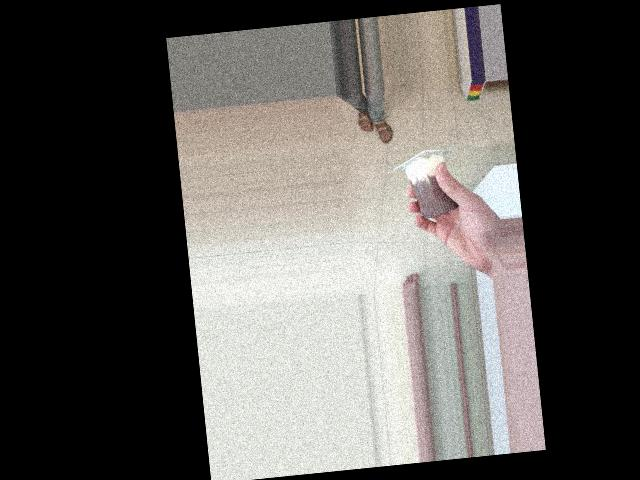milky: (399, 146, 461, 228)
